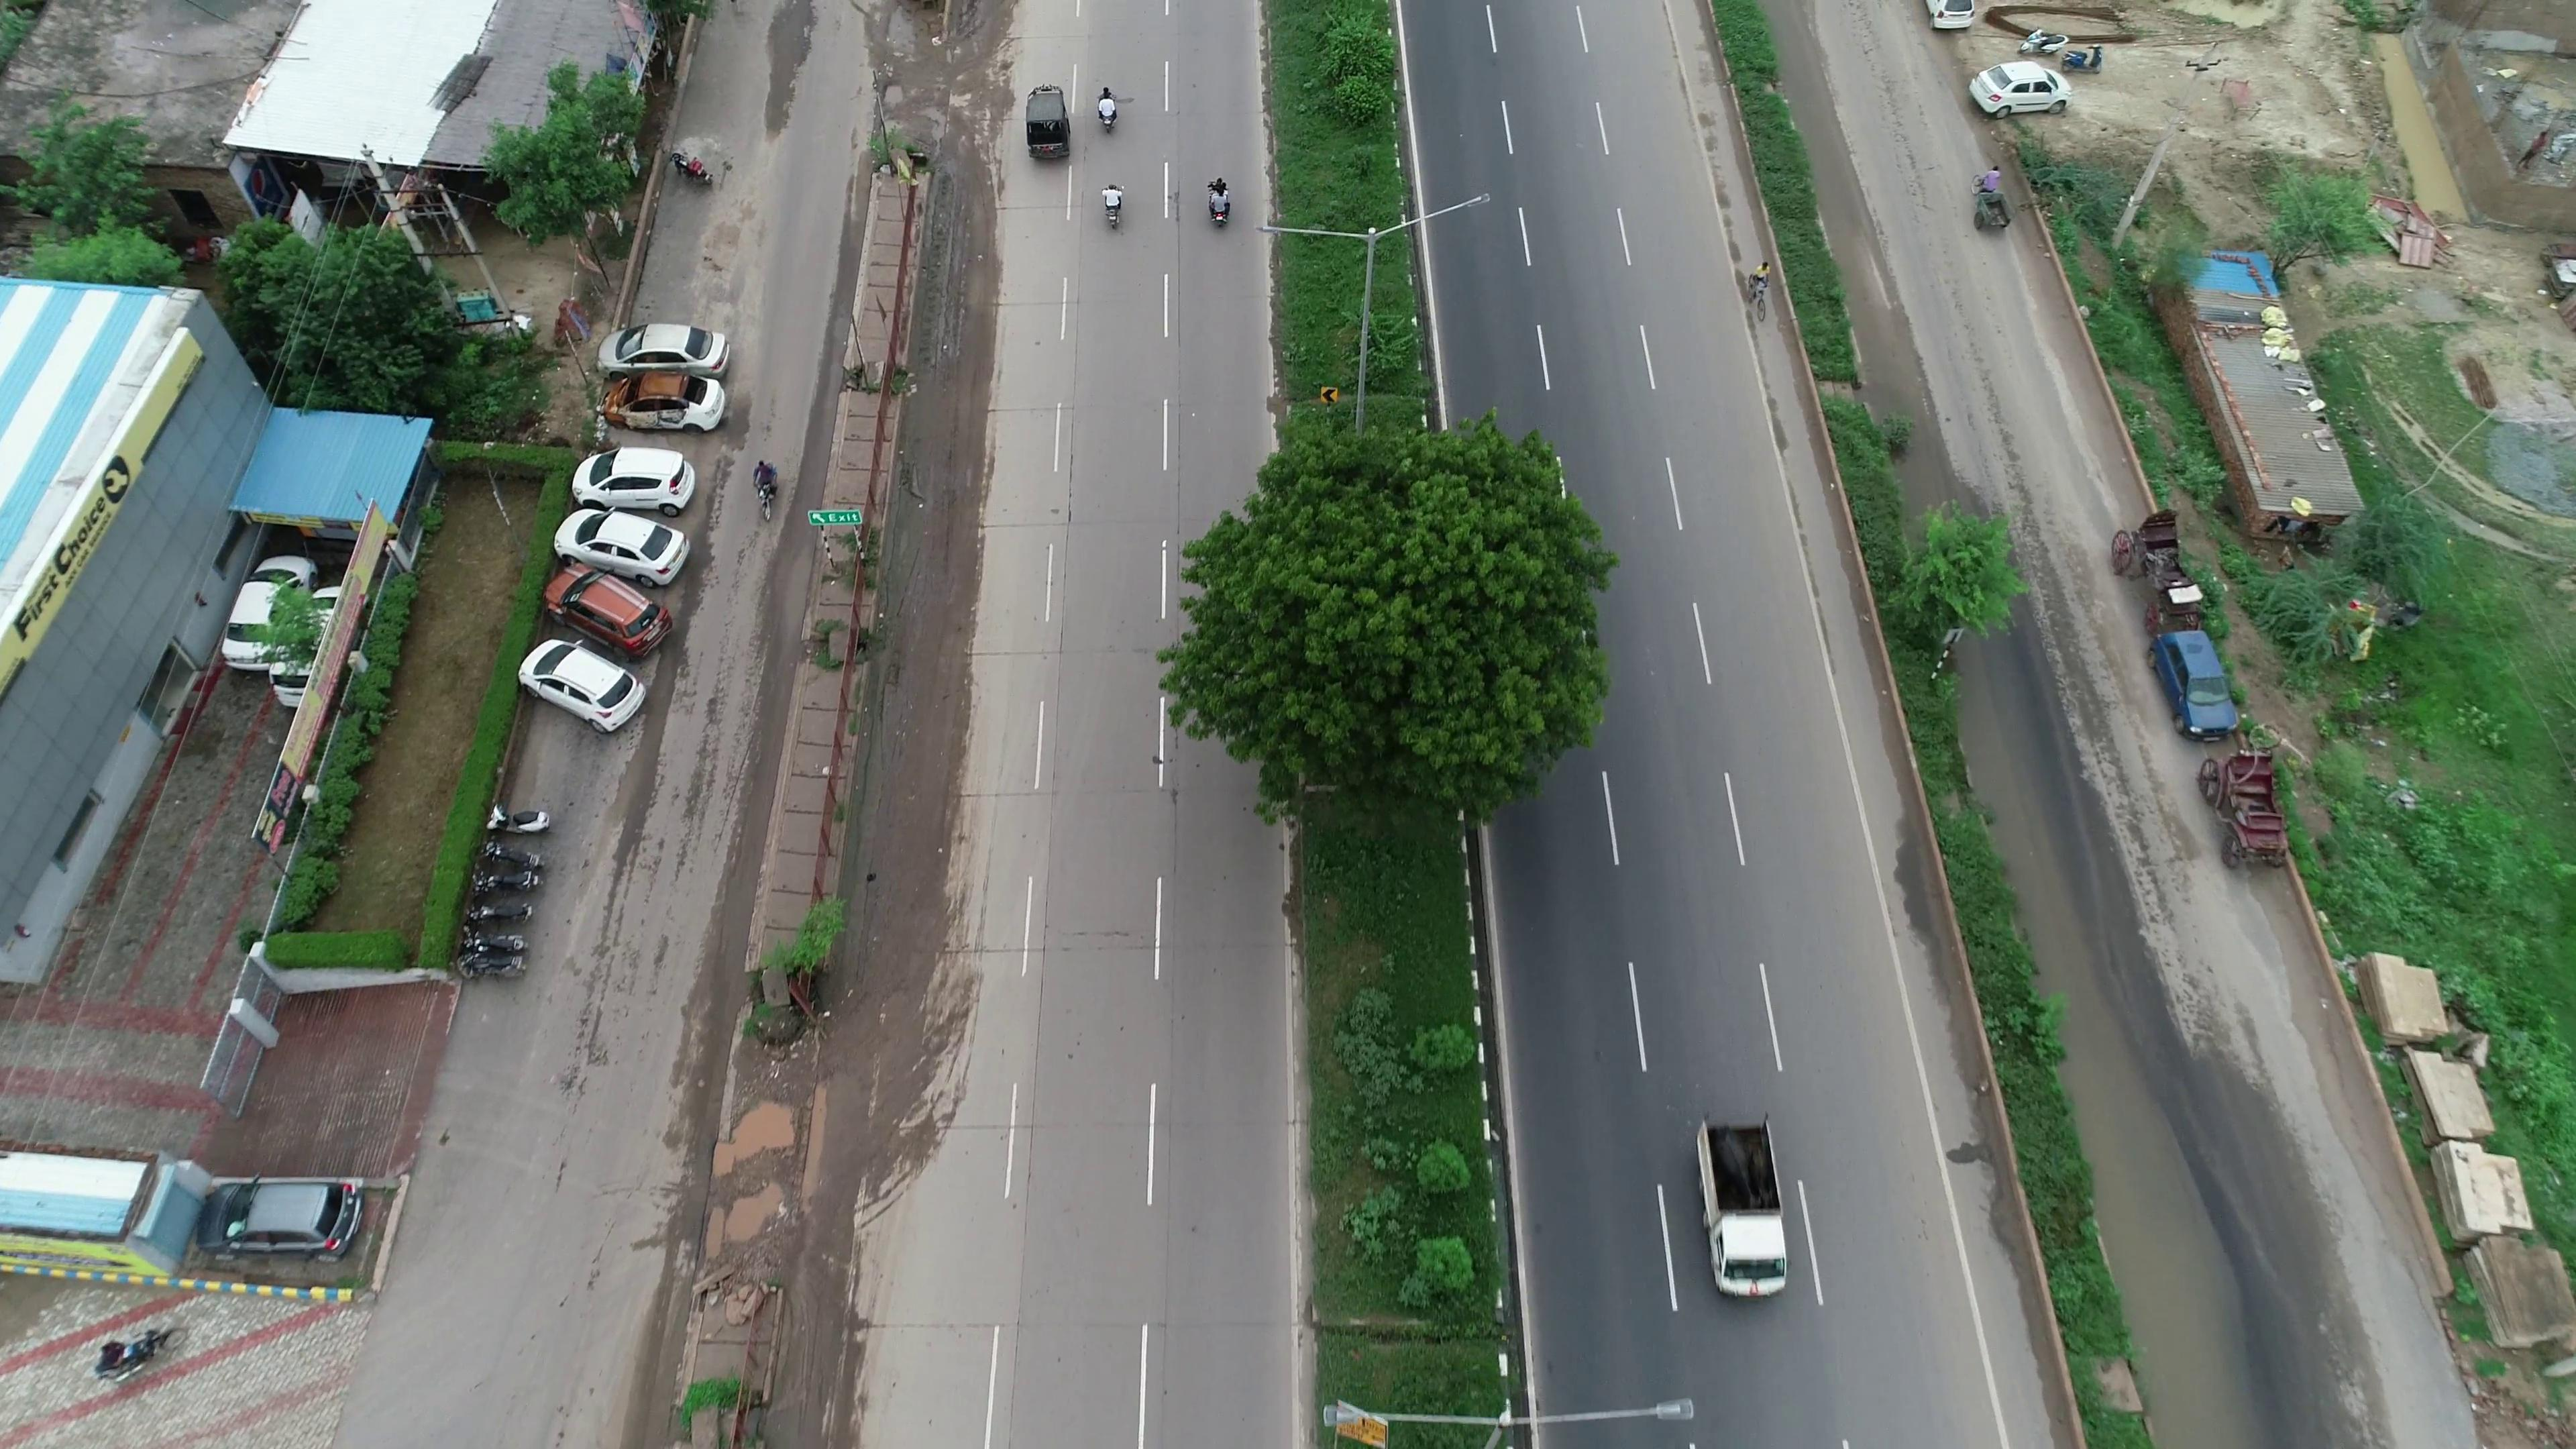Muddy_road: (847, 625, 980, 971), (893, 357, 996, 602), (911, 186, 1010, 356)
Potholes: (863, 81, 925, 111)
Waterlogging: (2082, 1047, 2282, 1421)
